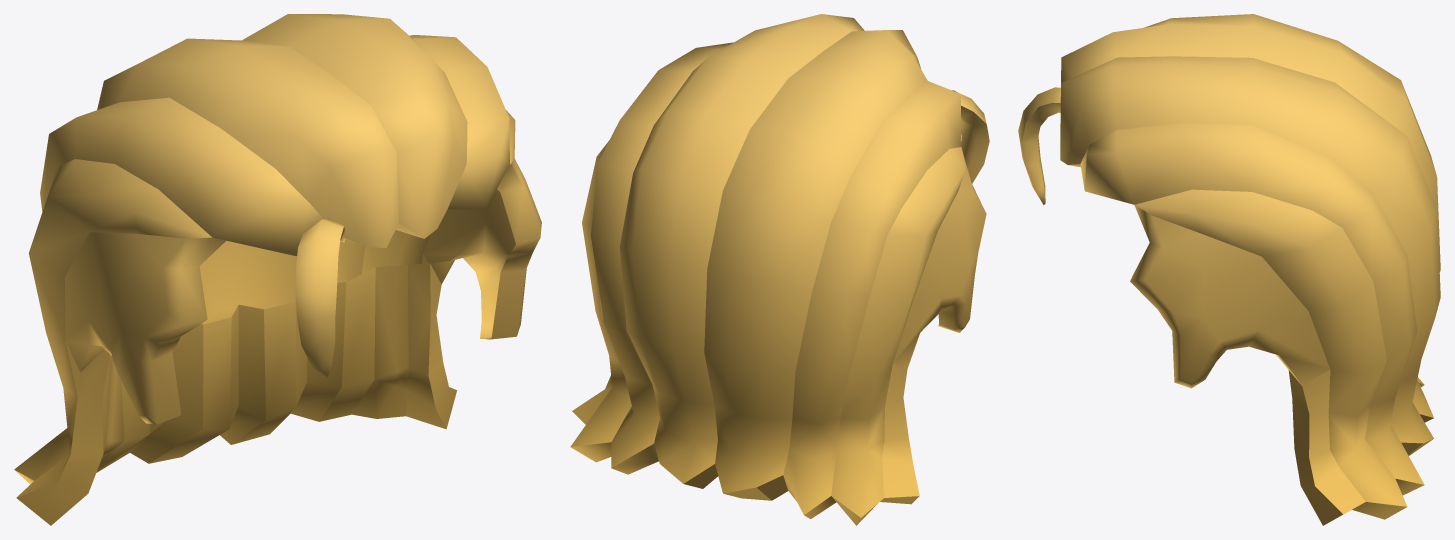
Rendered from Hair_Yellow_9.fbx.
3 views of the same model, side by side, from view 1: azimuth 30°, elevation 25°; view 2: azimuth 150°, elevation 25°; view 3: azimuth 270°, elevation 25° (orthographic). The views are drawn at different scales.
Visible parts, largest first — view 1: Hair_Yellow_9; view 2: Hair_Yellow_9; view 3: Hair_Yellow_9.
Boxes of the visible parts, x1,y1,x2,y2 form: Hair_Yellow_9: (14,14,541,525); Hair_Yellow_9: (570,14,989,525); Hair_Yellow_9: (1018,14,1440,525).
Bounding box in the file's own units: 58.08 × 61.17 × 57.42.
